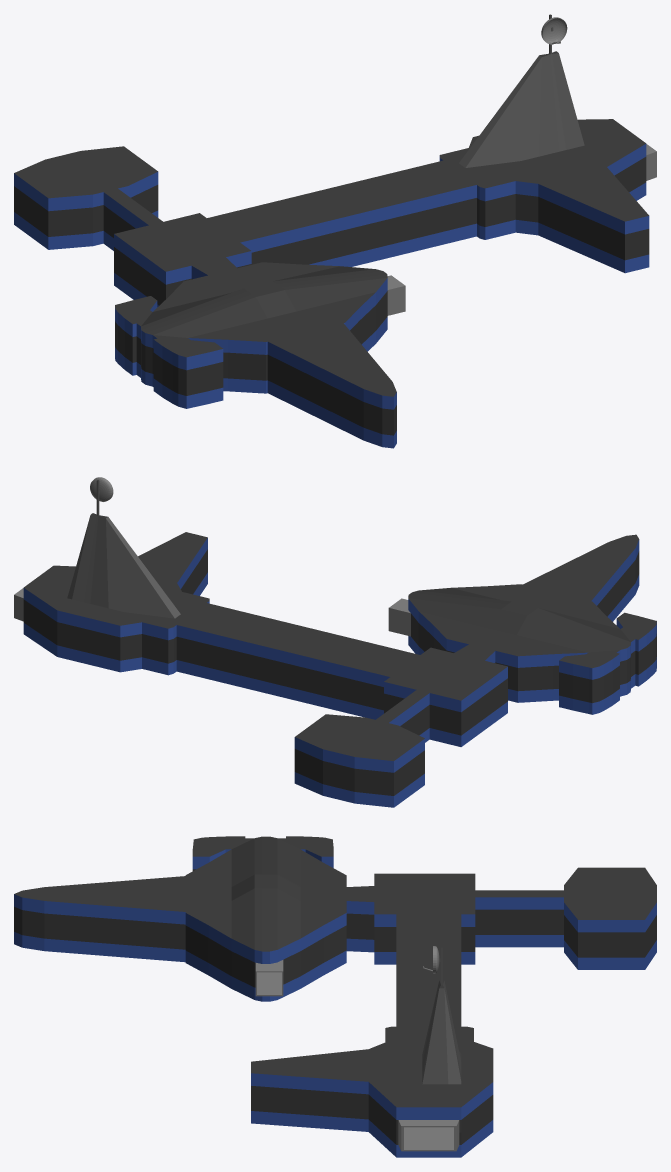
The model's file is SpaceStation4.fbx.
3 views of the same model, one above another, from view 1: azimuth 30°, elevation 25°; view 2: azimuth 150°, elevation 25°; view 3: azimuth 270°, elevation 25° (orthographic). The views are drawn at different scales.
Visible parts, largest first — view 1: Ship, Inside; view 2: Ship, Inside; view 3: Ship, Inside.
Part boxes in pixels (x1,y1,x2,y2): Ship: (14, 14, 649, 448); Inside: (387, 144, 656, 315); Ship: (23, 480, 656, 807); Inside: (14, 588, 410, 636); Ship: (14, 836, 656, 1157); Inside: (255, 960, 459, 1151).
Size of the model in its own units: 4732 by 1500 by 4640.
Materials: 3 (3 with a texture image).
